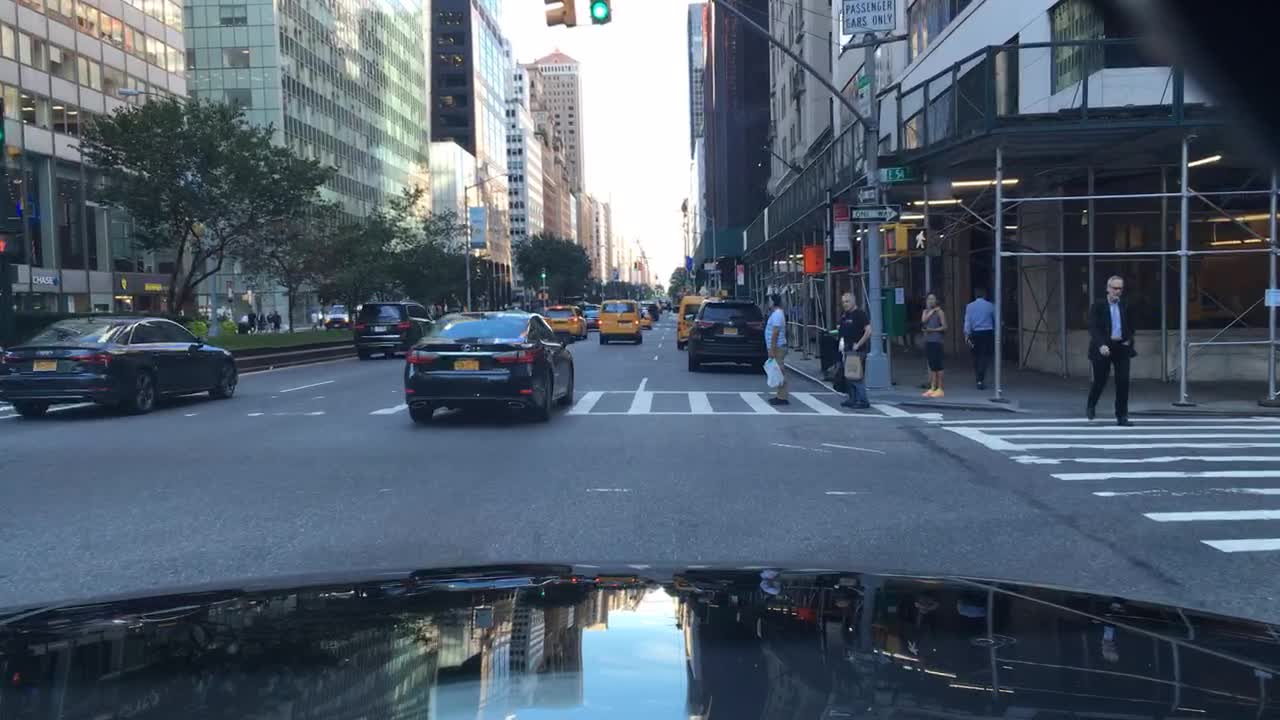car: (0, 310, 240, 416), (402, 306, 576, 422), (684, 294, 771, 374), (351, 299, 438, 361), (595, 297, 644, 346), (674, 293, 711, 350), (541, 302, 589, 341), (324, 303, 360, 330), (580, 300, 603, 328), (637, 299, 659, 321), (639, 309, 655, 329), (657, 297, 673, 312)
person: (1082, 273, 1138, 423), (836, 289, 874, 408), (759, 289, 793, 407), (962, 284, 996, 391), (918, 288, 949, 398), (897, 288, 919, 353), (245, 309, 258, 331), (265, 307, 276, 331), (255, 310, 267, 332), (271, 307, 281, 331), (308, 309, 320, 328), (317, 309, 328, 326)
traffic light: (884, 224, 927, 254), (541, 0, 578, 29), (586, 0, 611, 23)
traffic sign: (840, 0, 899, 35), (848, 203, 902, 225), (464, 203, 488, 249), (875, 163, 922, 182), (852, 183, 883, 203), (852, 69, 872, 91), (734, 260, 746, 286), (702, 260, 716, 270)
